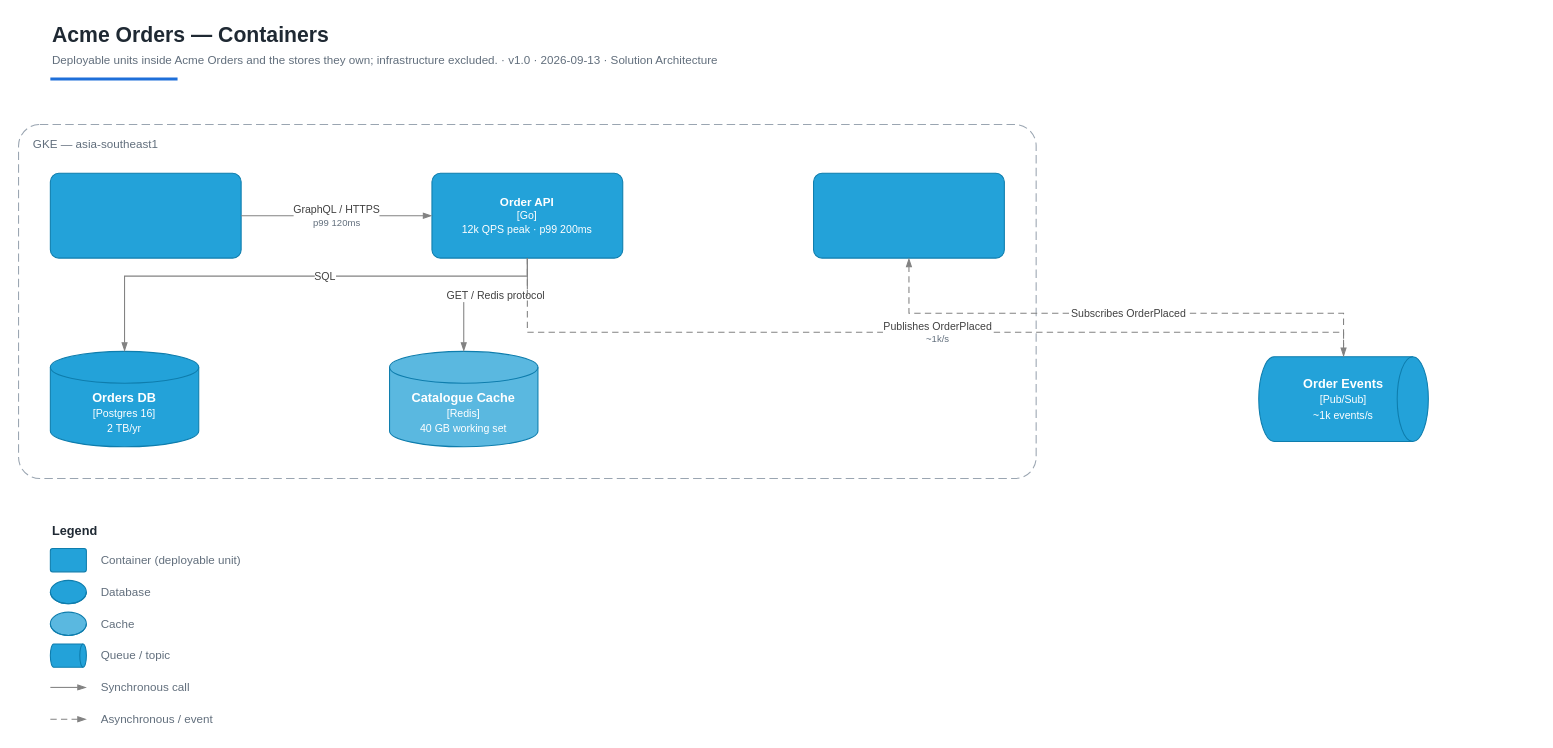
This 1553x748 diagram has some shape labels left out. The box of each missing label's shape, as (x1, y1, x2, y2) in pixels:
Fulfilment Worker [Go] 800 msg/s: (812, 172, 1004, 258)
Storefront [Next.js] 3k QPS peak: (49, 172, 241, 258)
